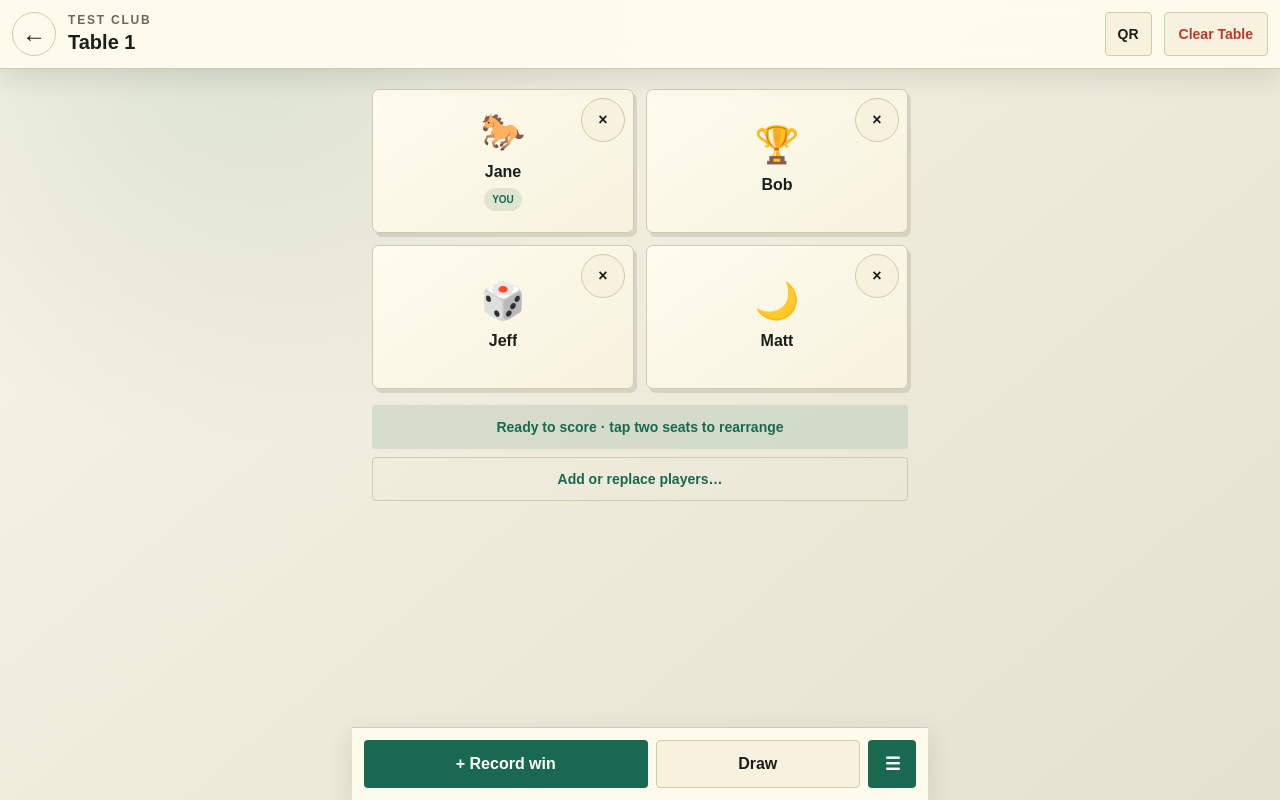
Scenario: focused table scoring › removes a player immediately while the database write is still pending
Click the button named "Remove Jane".
click(603, 120)  # box 581,98 -> 625,142
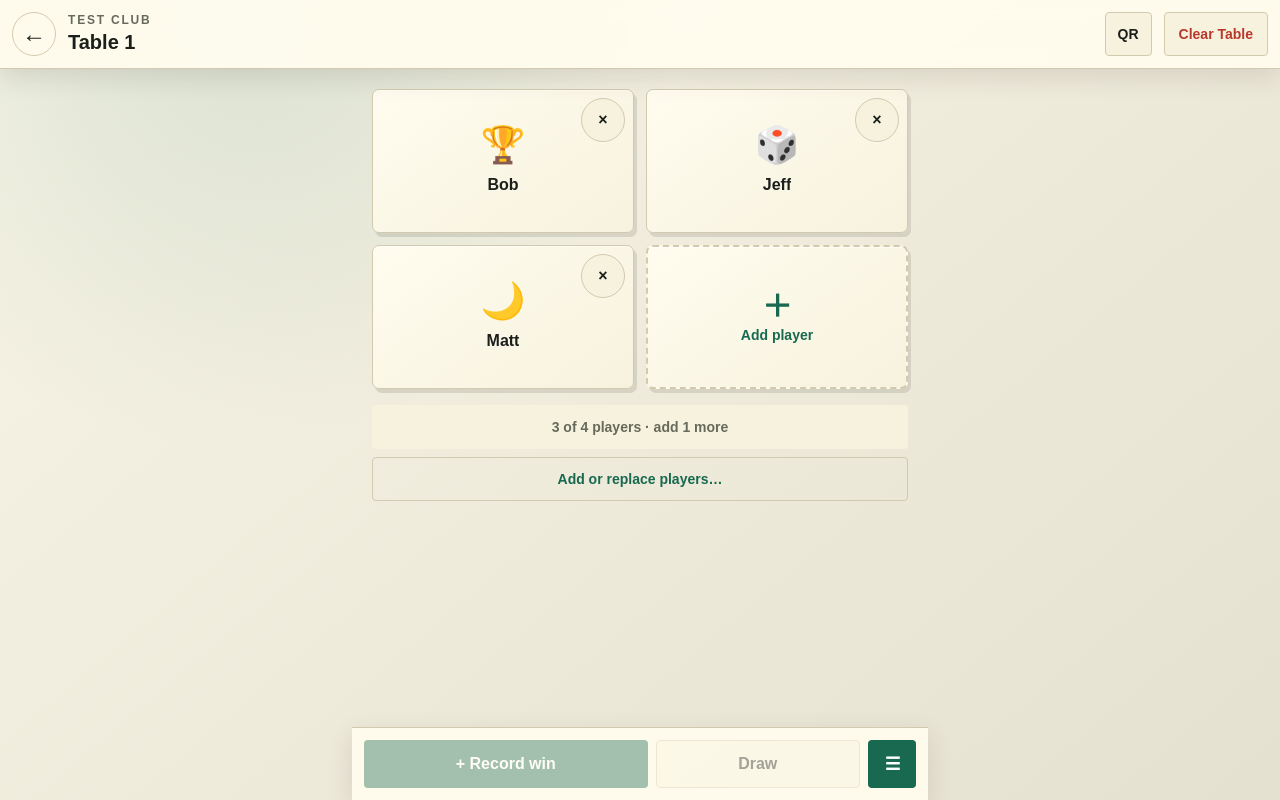
Now the number of buttons "＋ Add player" is 1, box 646,245 -> 908,389
